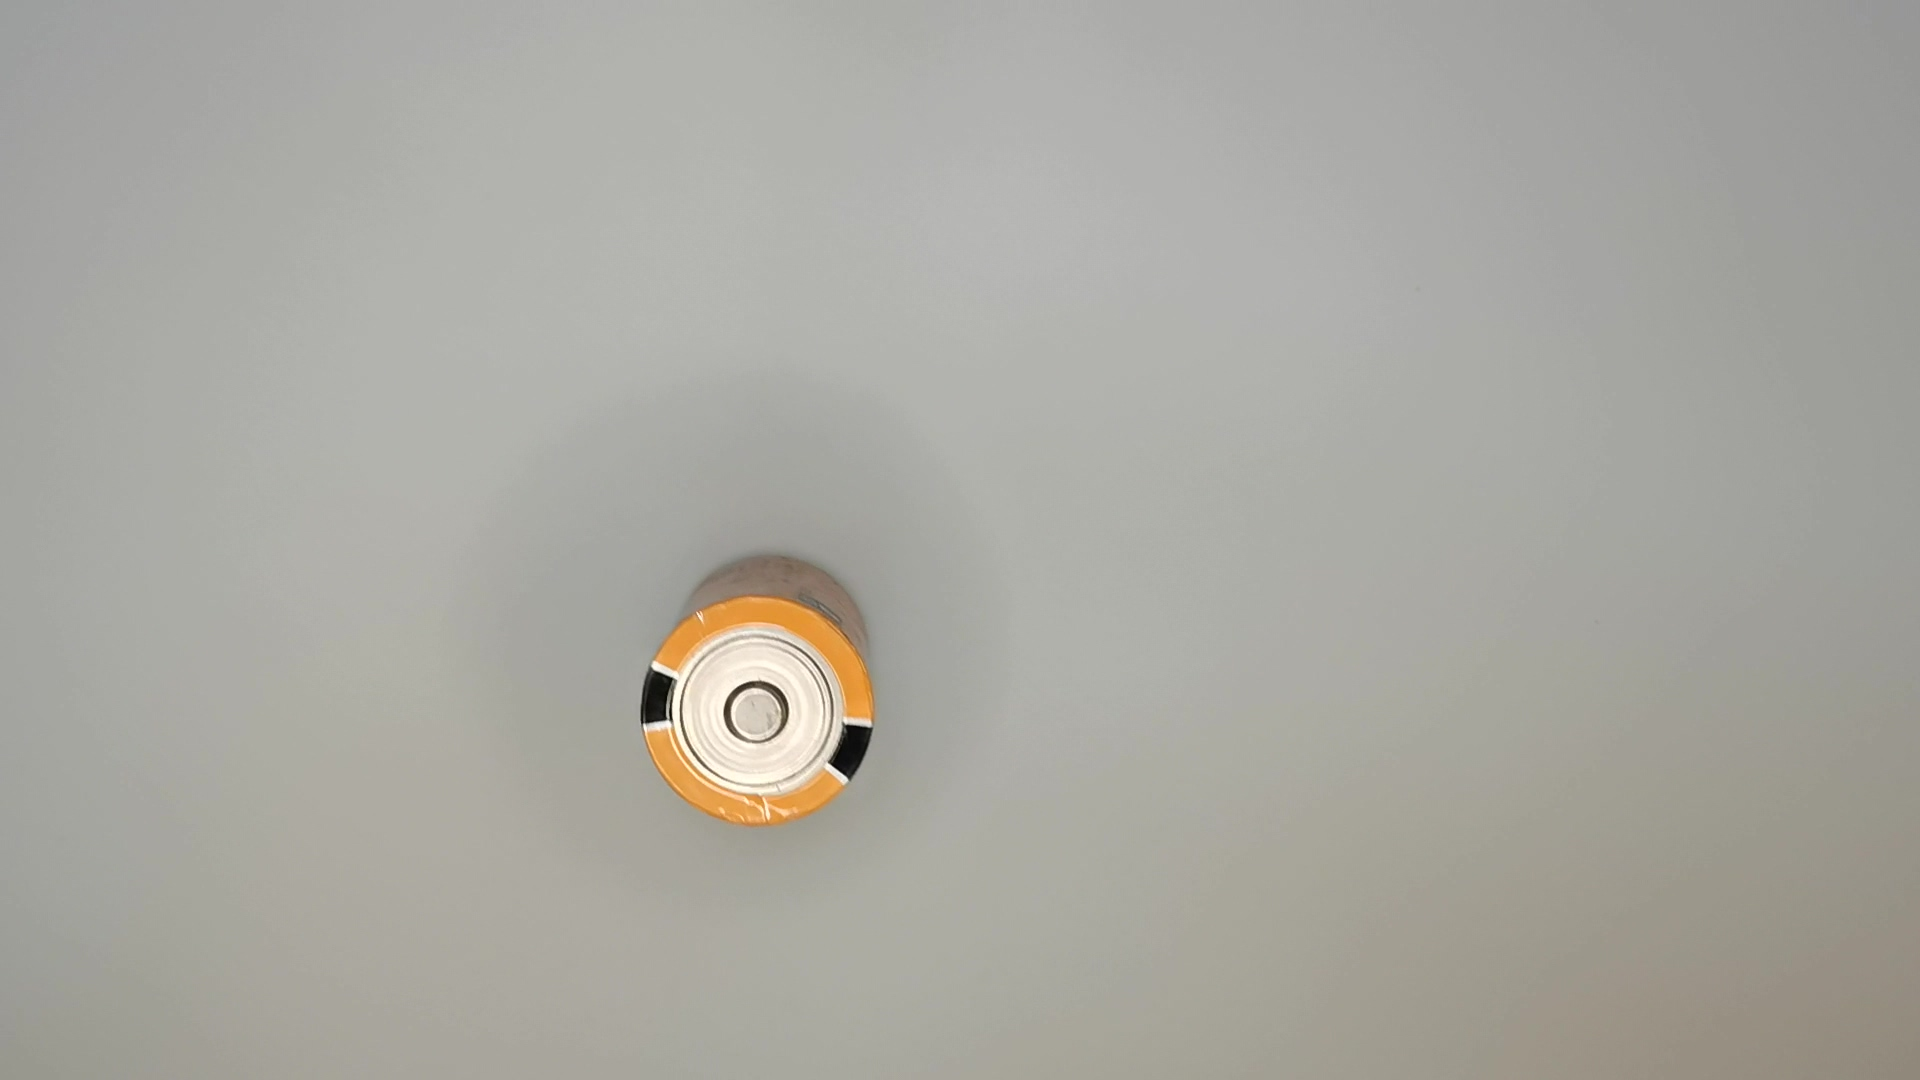battery: (636, 549, 885, 835)
